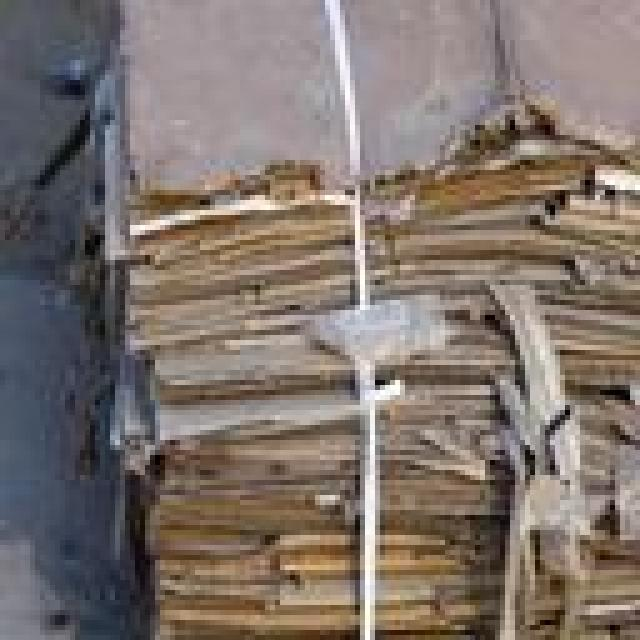cardboard: (85, 65, 635, 270), (110, 0, 635, 190), (140, 445, 635, 635), (100, 350, 635, 460), (90, 250, 635, 350), (145, 305, 635, 395)
